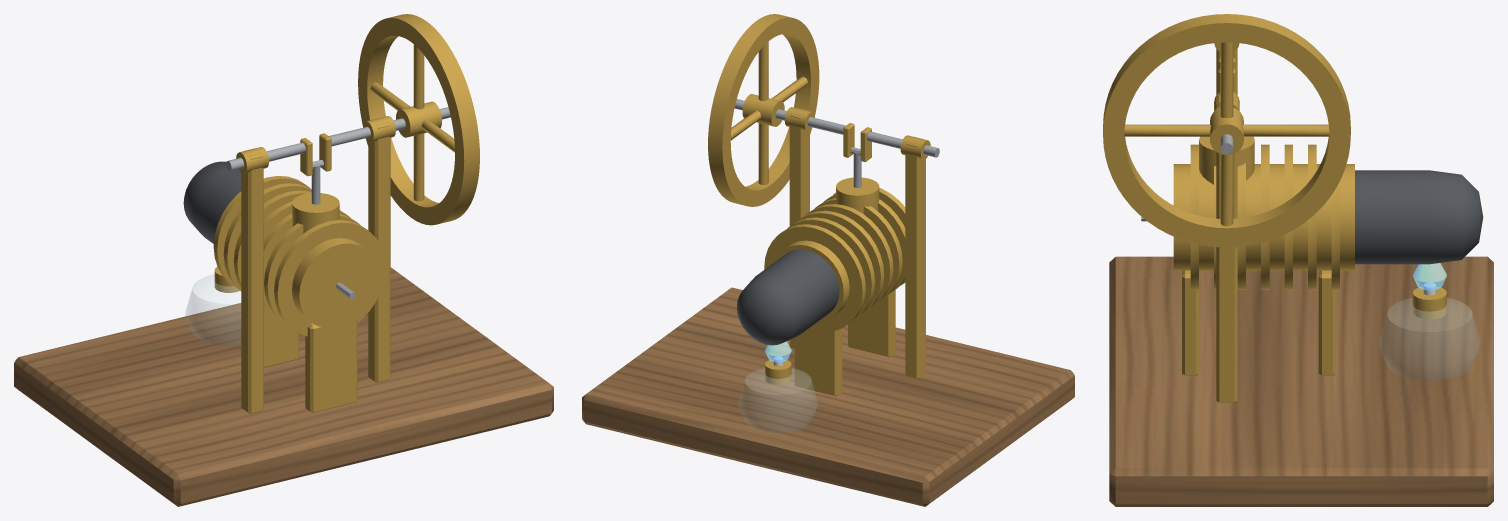
The model's file is stirling-engine.glb.
3 views of the same model, side by side, from view 1: azimuth 30°, elevation 25°; view 2: azimuth 150°, elevation 25°; view 3: azimuth 270°, elevation 25° (orthographic). The views are drawn at different scales.
Visible parts, largest first — view 1: Stirling_Engine, Flywheel; view 2: Stirling_Engine, Flywheel; view 3: Stirling_Engine, Flywheel.
Boxes of the visible parts, x1,y1,x2,y2 form: Stirling_Engine: [14, 116, 553, 506]; Flywheel: [226, 14, 479, 225]; Stirling_Engine: [582, 107, 1074, 506]; Flywheel: [708, 14, 939, 206]; Stirling_Engine: [1109, 42, 1493, 506]; Flywheel: [1103, 14, 1350, 247].
Size of the model in its own units: 0.24 by 0.228 by 0.183.
Materials: 7 (1 with a texture image).
